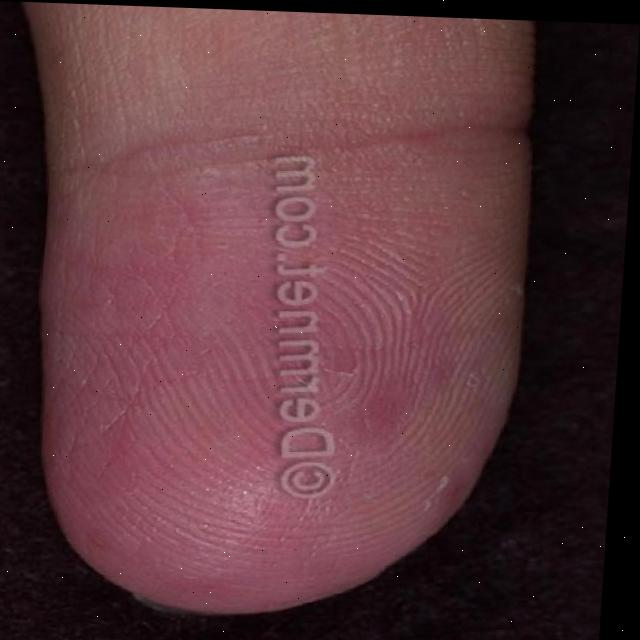Eczema: (101, 122, 403, 573)
